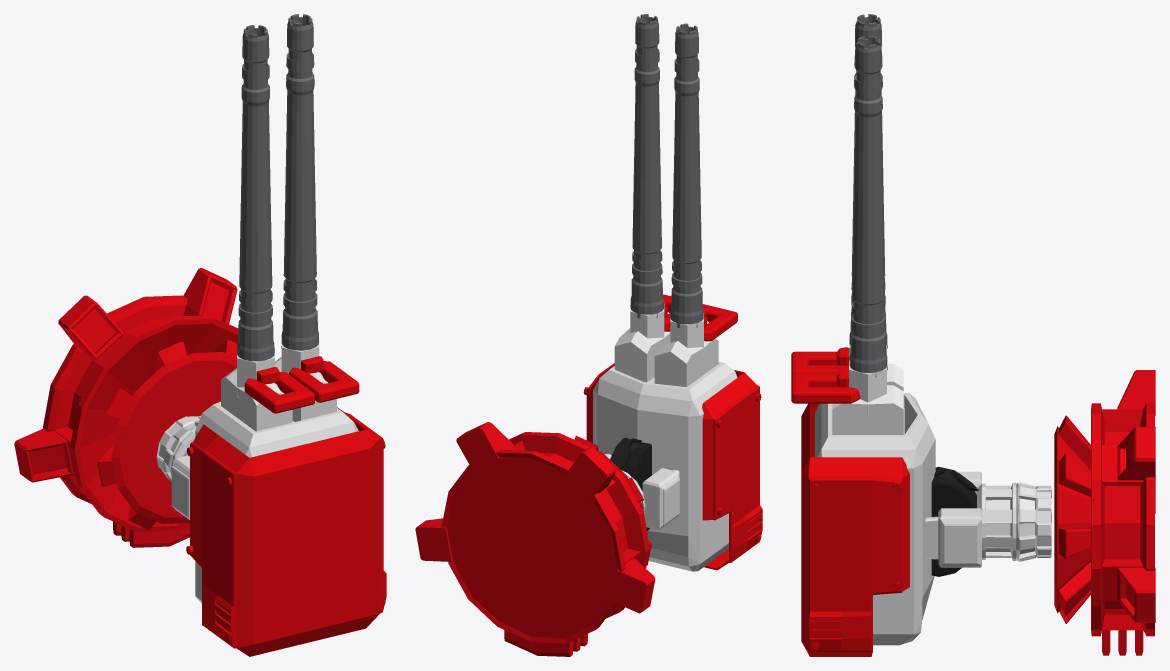
File: LargeTurret.fbx
3 renders of one model, left to right at view 1: azimuth 30°, elevation 25°; view 2: azimuth 150°, elevation 25°; view 3: azimuth 270°, elevation 25°, orthographic. The views are drawn at different scales.
Visible parts, largest first — view 1: LargeTurretHead, LargeTurretBase; view 2: LargeTurretHead, LargeTurretBase; view 3: LargeTurretHead, LargeTurretBase.
Boxes of the visible parts, left/top/right/bottom form: LargeTurretHead: left=156, top=14, right=386, bottom=656; LargeTurretBase: left=14, top=267, right=238, bottom=547; LargeTurretHead: left=583, top=14, right=762, bottom=571; LargeTurretBase: left=415, top=422, right=655, bottom=656; LargeTurretHead: left=791, top=14, right=1051, bottom=656; LargeTurretBase: left=1054, top=370, right=1155, bottom=655.
Bounding box in the file's own units: 883 × 1987 × 1073.
